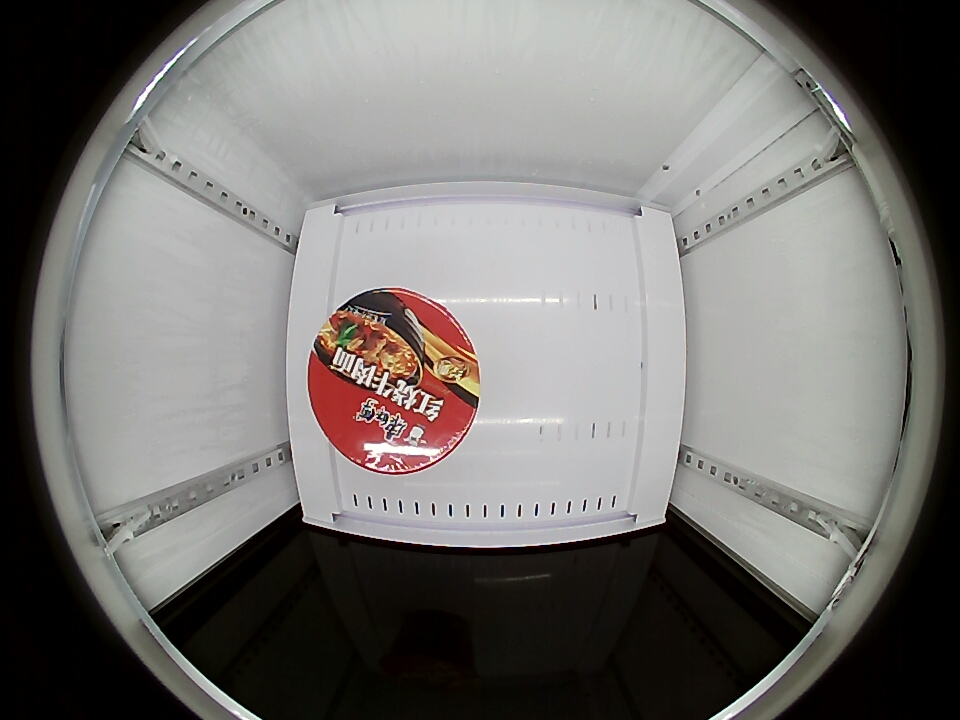hongshaoniurou: (308, 289, 480, 475)
